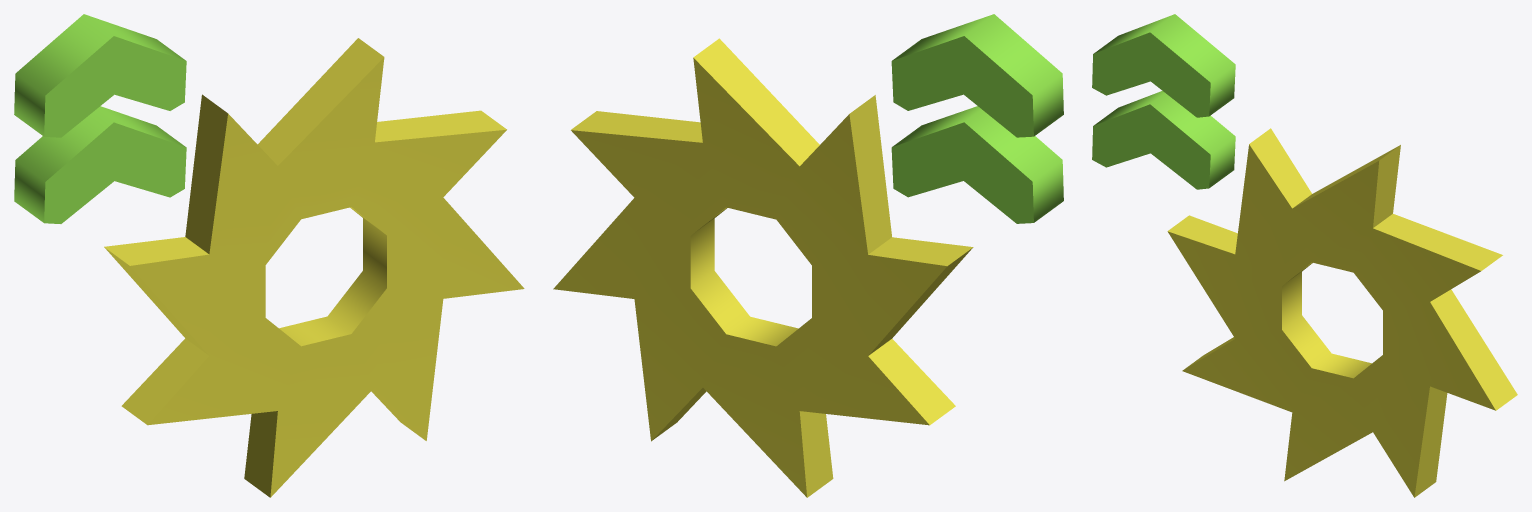
The model's file is Cutter_Boost 1.fbx.
3 views of the same model, side by side, from view 1: azimuth 30°, elevation 25°; view 2: azimuth 150°, elevation 25°; view 3: azimuth 330°, elevation 25° (orthographic). The views are drawn at different scales.
Visible parts, largest first — view 1: Cutter_Boost; view 2: Cutter_Boost; view 3: Cutter_Boost.
Part boxes in pixels (x1,y1,x2,y2): Cutter_Boost: (14,14,524,497); Cutter_Boost: (553,14,1063,497); Cutter_Boost: (1092,14,1517,497).
Bounding box in the file's own units: 1.56 × 1.55 × 0.168.
